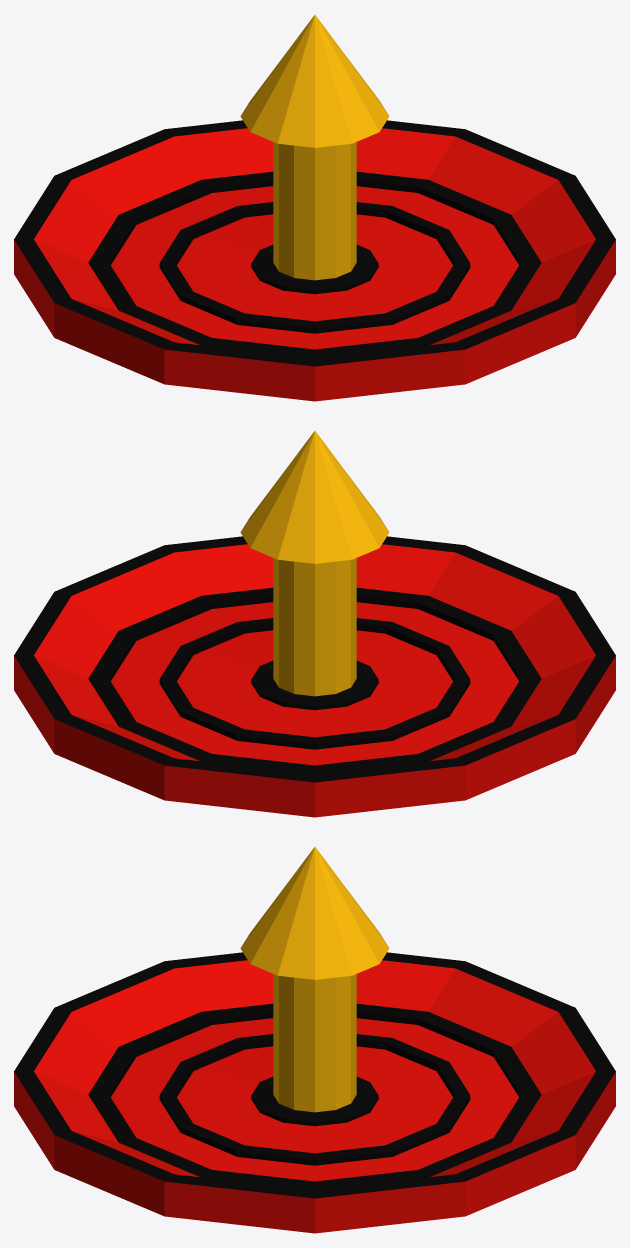
File: gravity_pad.glb
3 views of the same model, one above another, from view 1: azimuth 30°, elevation 25°; view 2: azimuth 150°, elevation 25°; view 3: azimuth 270°, elevation 25° (orthographic).
Parts seen in each view (by area): view 1: Cube, Cube.001_X; view 2: Cube, Cube.001_X; view 3: Cube, Cube.001_X.
Part boxes in pixels (x1,y1,x2,y2): Cube: (14,120,615,401); Cube.001_X: (240,15,389,280); Cube: (14,536,615,817); Cube.001_X: (240,431,389,696); Cube: (14,952,615,1233); Cube.001_X: (240,847,389,1112).
Bounding box in the file's own units: 2 × 0.9525 × 2.
